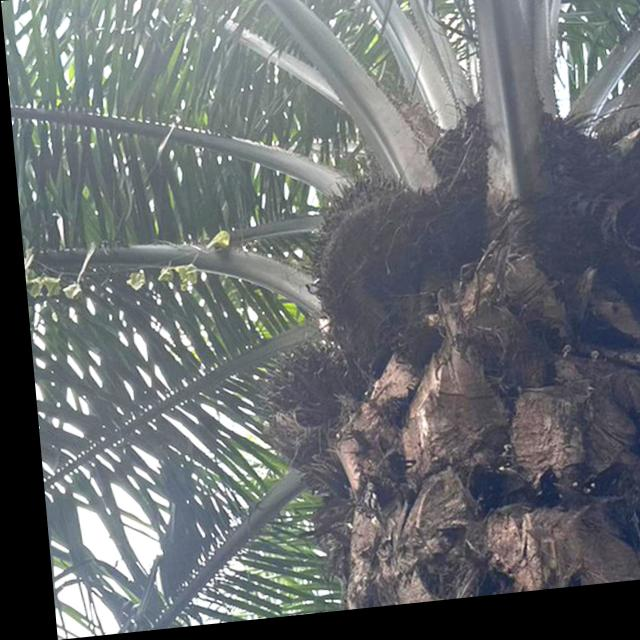unripe: (293, 171, 422, 340), (249, 340, 347, 447)
